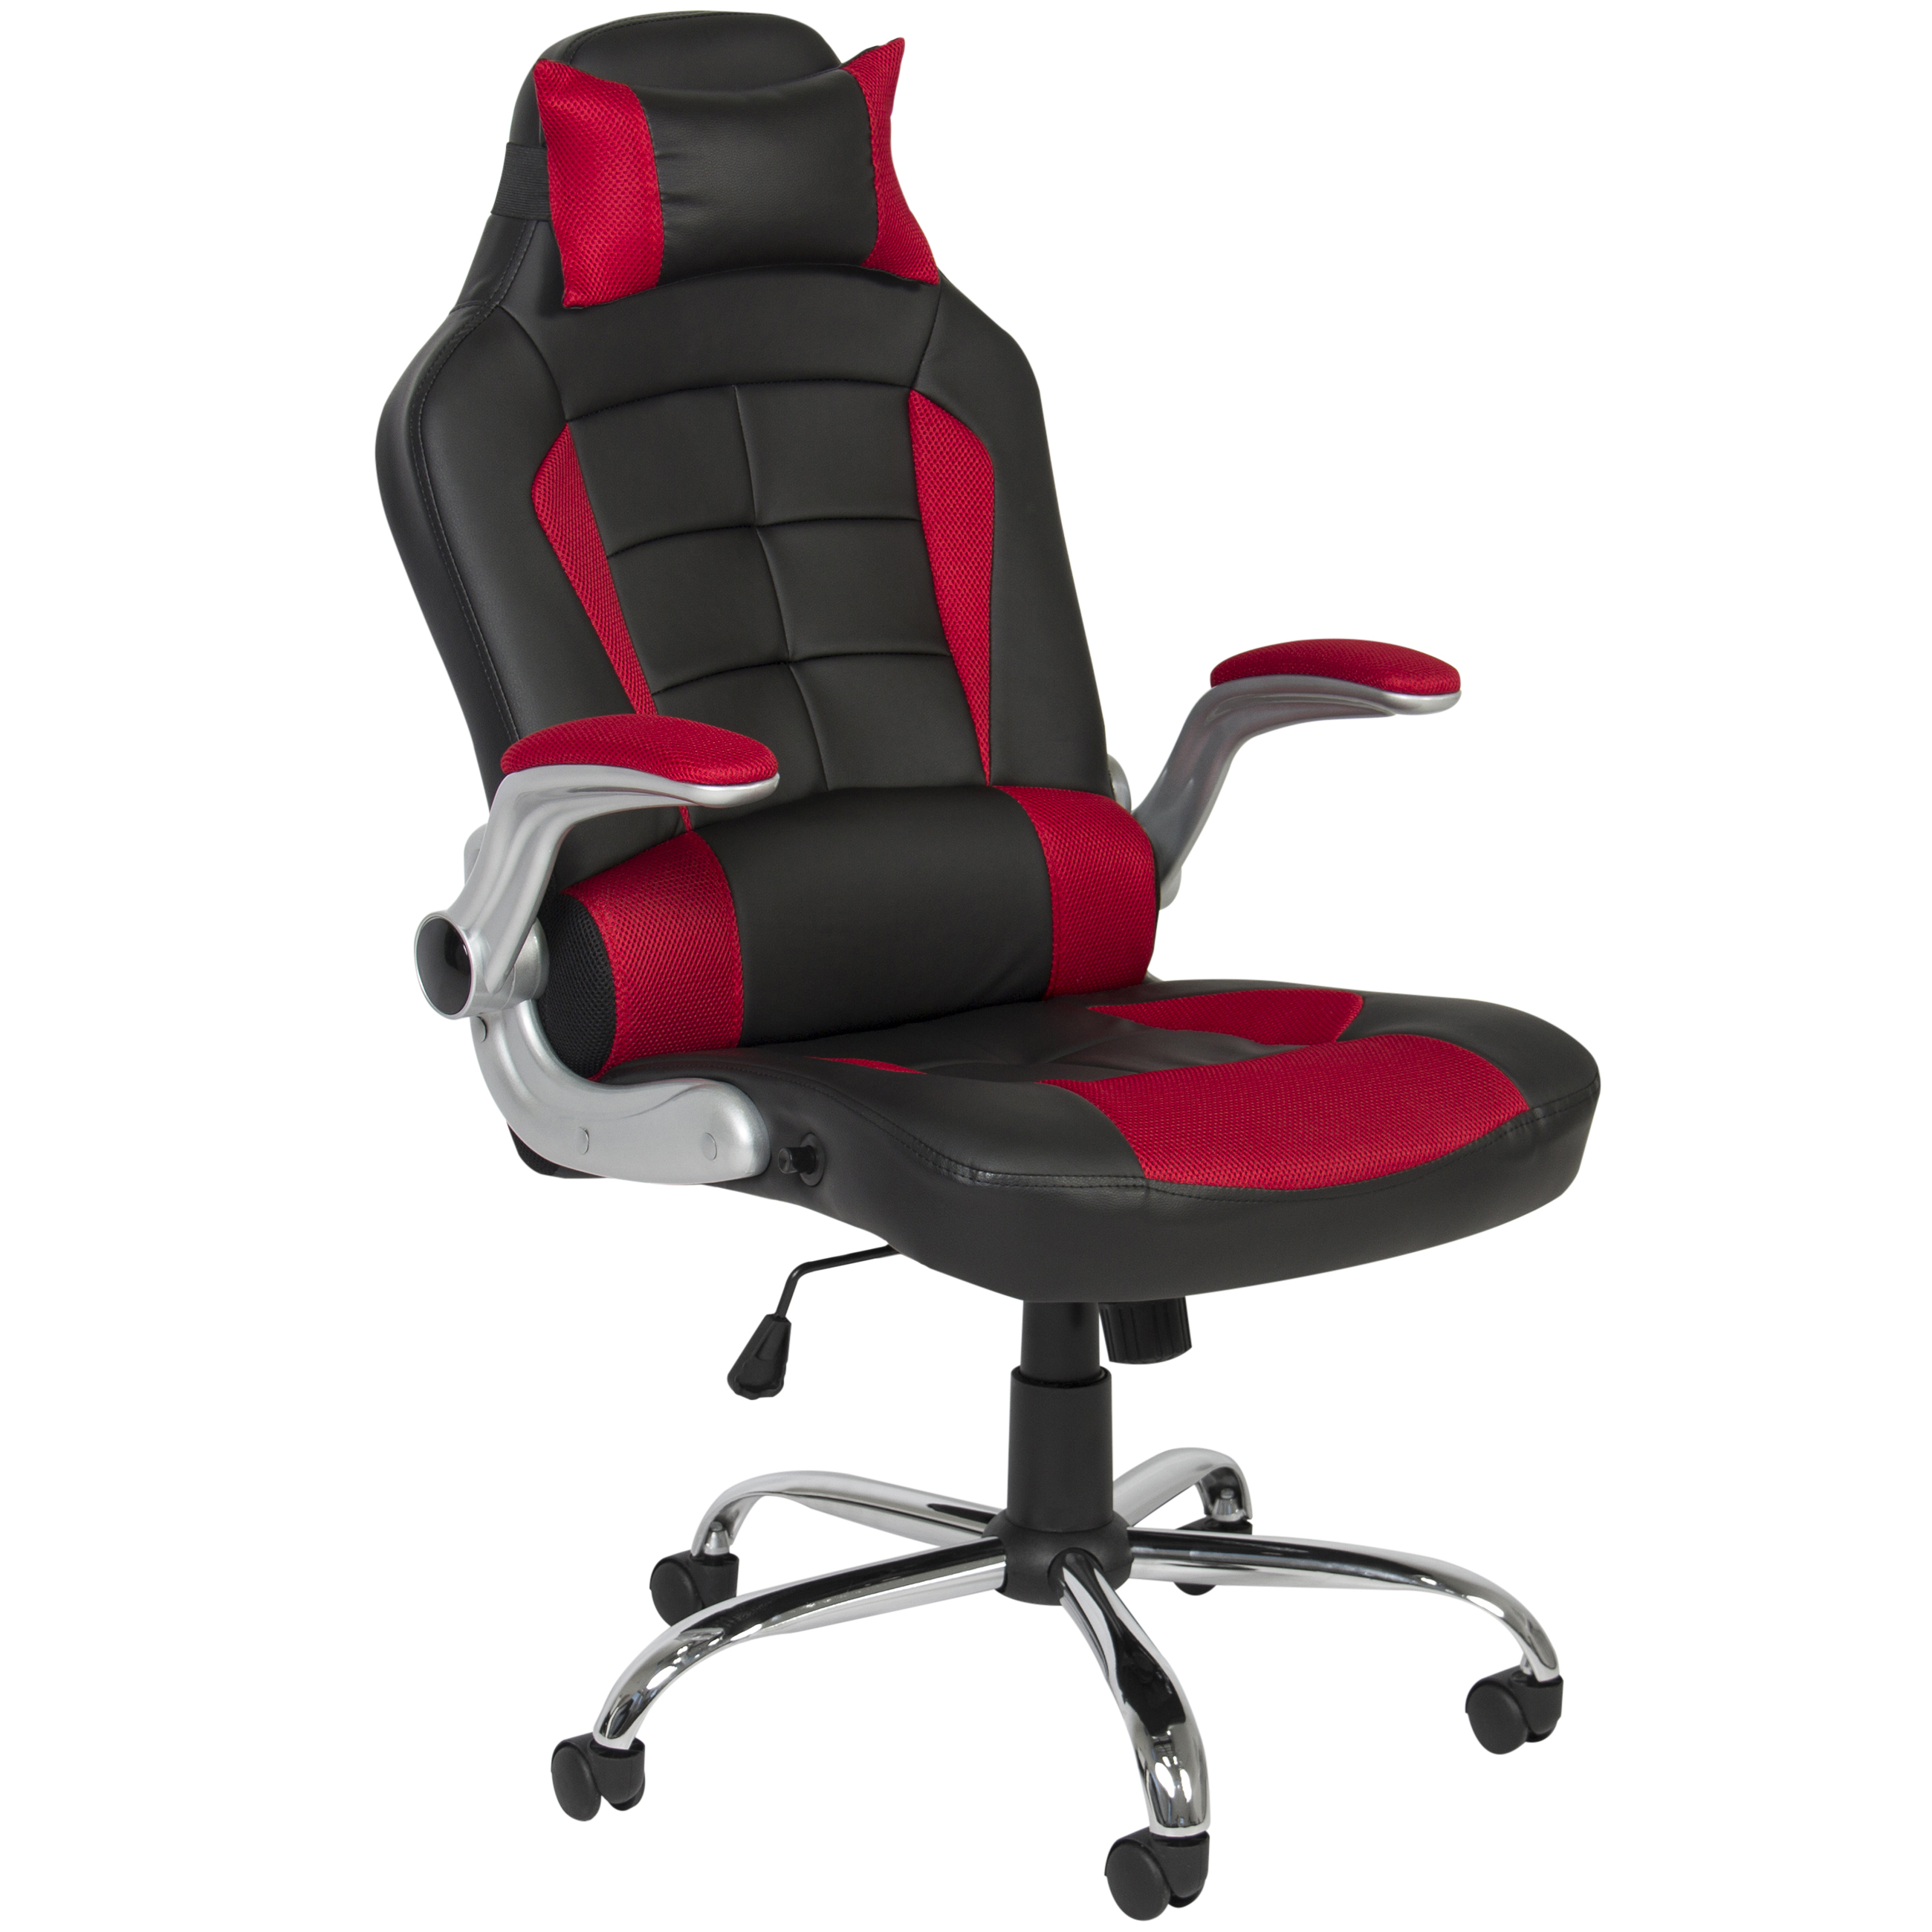chairs: (361, 5, 1621, 1923)
